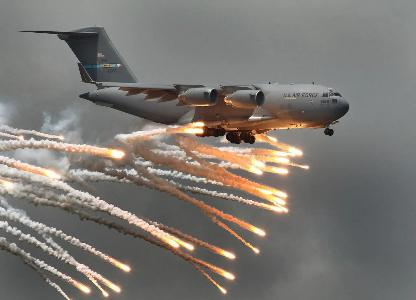C2: (17, 24, 349, 143)
